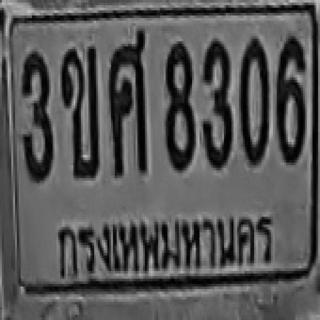A02: (60, 44, 98, 176)
A38: (107, 30, 145, 174)
N00: (238, 36, 268, 162)
N03: (20, 49, 52, 180), (200, 37, 230, 166)
N06: (275, 34, 305, 162)
N08: (164, 40, 194, 169)
P04: (47, 202, 284, 289)
